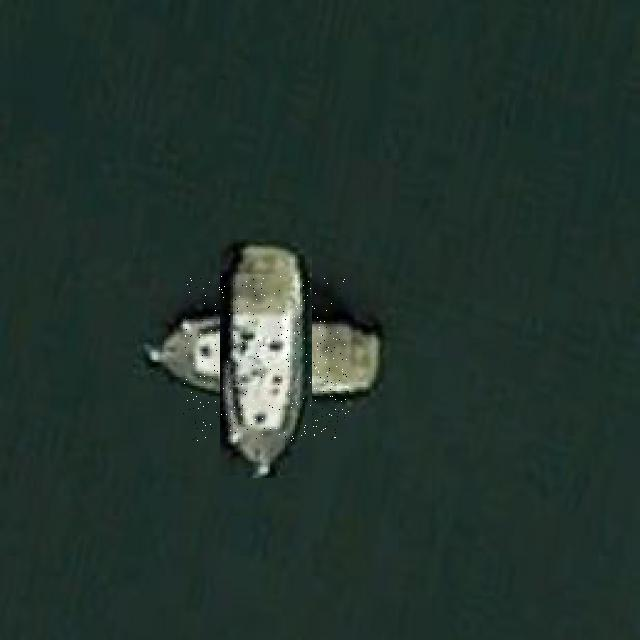boat: (183, 276, 349, 442)
